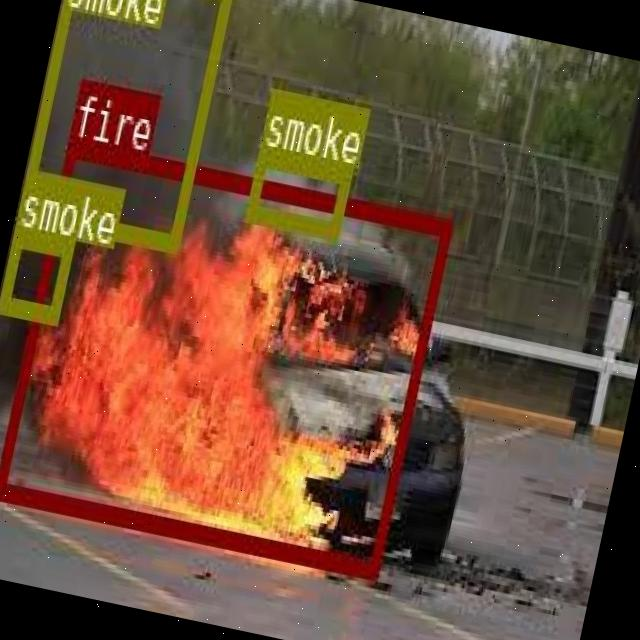fire: (0, 134, 450, 573)
smoke: (16, 0, 233, 247), (244, 144, 350, 234), (0, 225, 72, 321)
